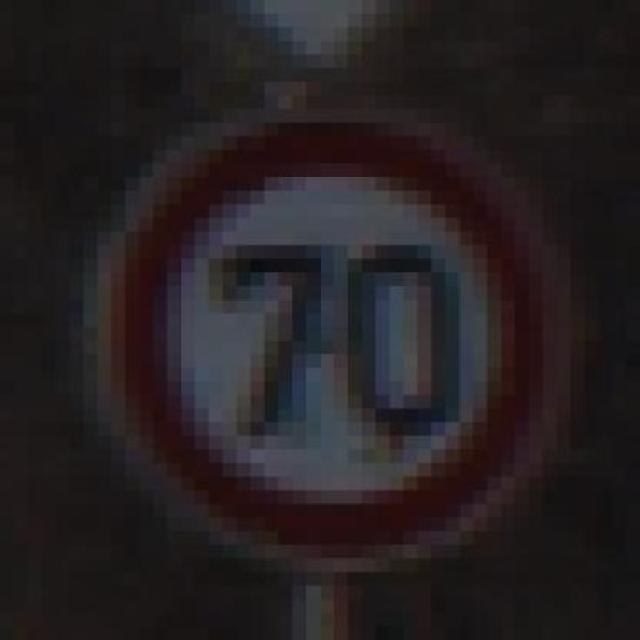forb_speed_over_70: (106, 107, 546, 564)
